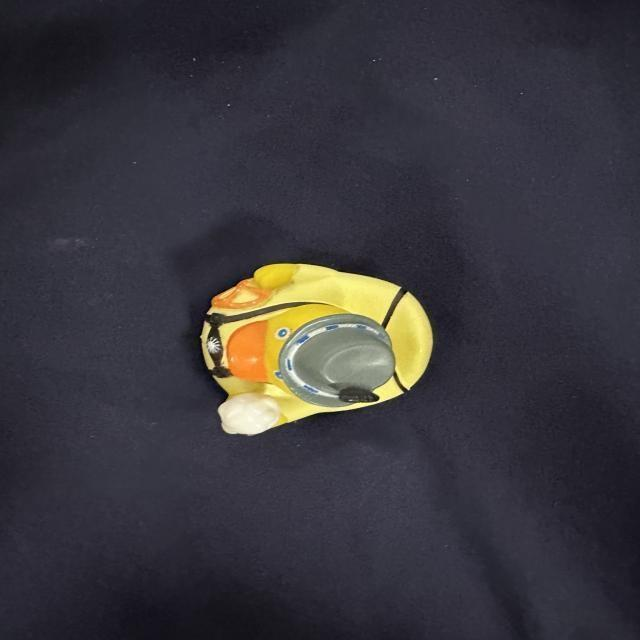rubber-duck: (200, 263, 431, 433)
